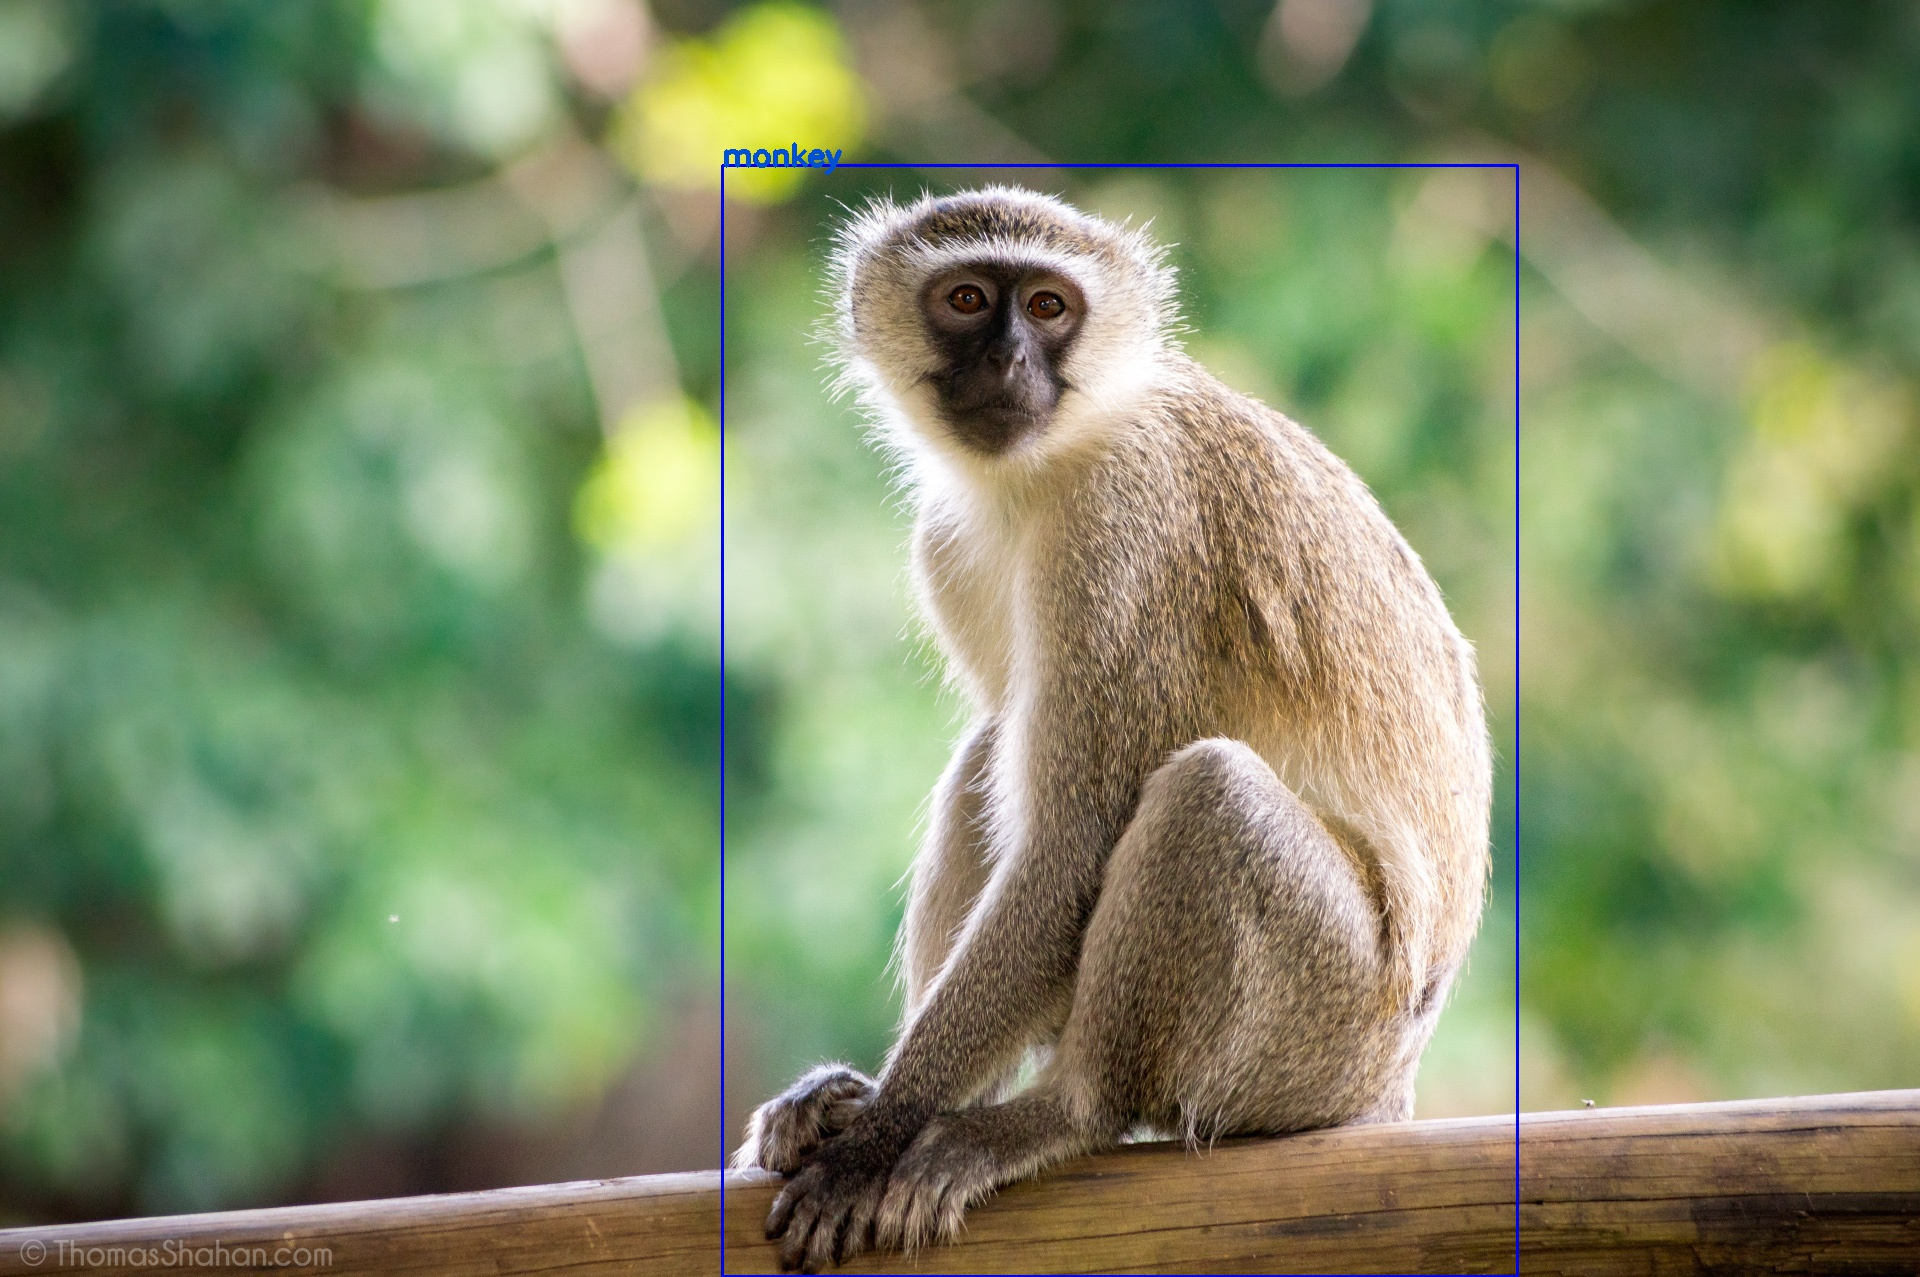monkey: (723, 164, 1517, 1276)
